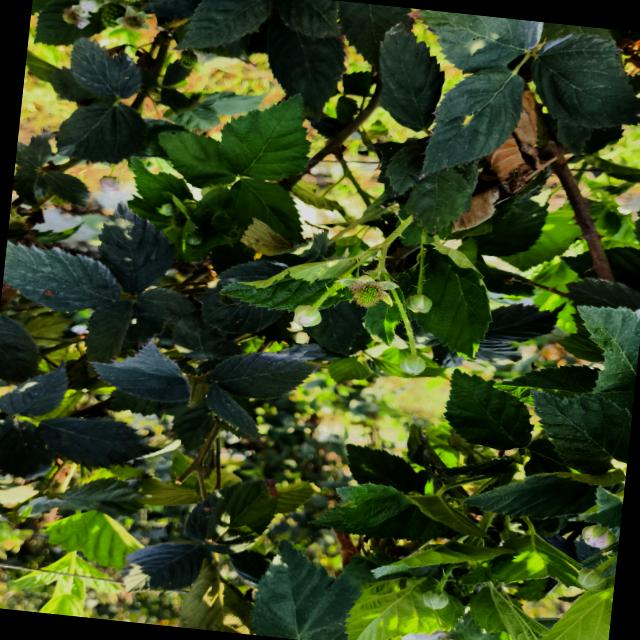boton: (581, 525, 616, 548), (577, 568, 605, 591), (293, 305, 321, 327), (399, 354, 425, 375), (405, 293, 432, 312), (422, 590, 448, 609), (186, 233, 202, 245)
verde: (350, 281, 383, 307)
